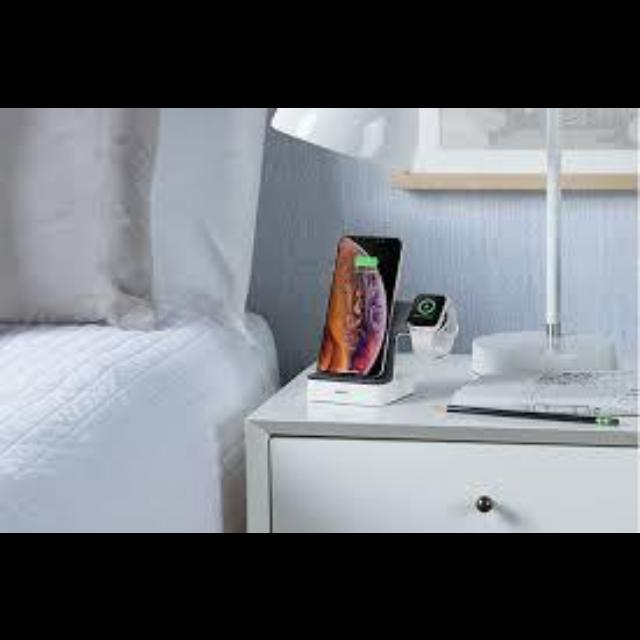Phone: (318, 236, 404, 378)
